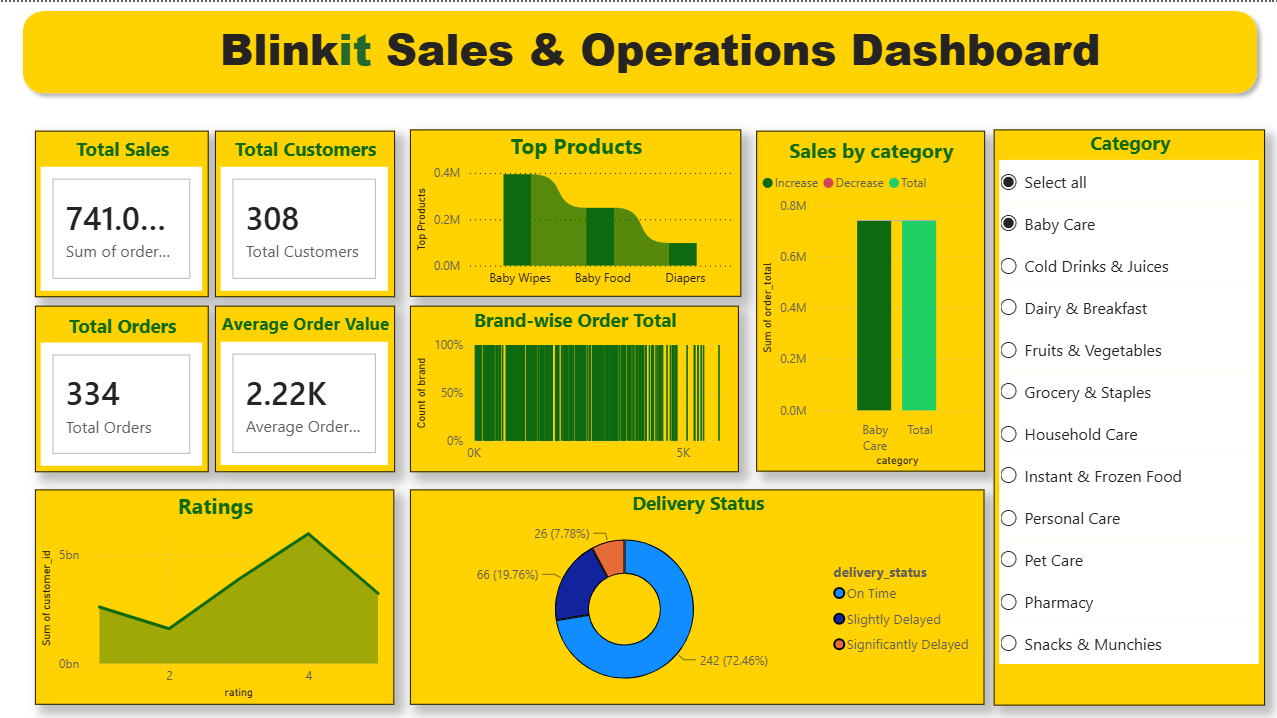

Layout of this report page (visuals, bound fields, positions):
{"tool":"powerbi","page":{"name":"Page 1","canvas":[1280,720],"ordinal":0},"visuals":[{"type":"waterfallChart","title":"Sales by category","fields":{"Category":["blinkit_products.category"],"Y":["Sum(blinkit_orders.order_total)"]},"box":[707.5,128.8,277.5,341.2],"z":0},{"type":"cardVisual","title":"Total Sales","fields":{"Data":["Sum(blinkit_orders.order_total)"]},"box":[35.5,128.4,173.6,166.3],"z":1000},{"type":"cardVisual","title":"Total Orders","fields":{"Data":["blinkit_customer_feedback.Total Orders"]},"box":[35.5,303.3,173.6,166.3],"z":2000},{"type":"cardVisual","title":"Total Customers","fields":{"Data":["blinkit_customer_feedback.Total Customers"]},"box":[215.2,128.4,179.8,166.3],"z":3000},{"type":"cardVisual","title":"Average Order Value","fields":{"Data":["blinkit_customer_feedback.Average Order Value"]},"box":[215.2,303.3,179.8,166.3],"z":4000},{"type":"ribbonChart","title":"Top Products","fields":{"Category":["blinkit_products.product_name"],"Y":["Sum(blinkit_orders.order_total)"]},"box":[35,487.5,491.2,216.2],"z":5000},{"type":"hundredPercentStackedColumnChart","title":"Brand-wise Order Total","fields":{"Category":["blinkit_orders.order_total"],"Y":["CountNonNull(blinkit_products.brand)"]},"box":[538.8,487.5,446.2,216.2],"z":6000},{"type":"stackedAreaChart","title":"Ratings","fields":{"Category":["blinkit_customer_feedback.rating"],"Y":["Sum(blinkit_customer_feedback.customer_id)"]},"box":[408.8,127.5,285,342.5],"z":8000},{"type":"listSlicer","title":"Category","fields":{"Values":["blinkit_products.category"]},"box":[994.2,127.2,271.5,576],"z":9000},{"type":"shape","box":[13.9,0,1252.2,100.3],"z":10000},{"type":"textbox","box":[215.2,11,1050.4,78.3],"z":11000}]}

Visuals, with their boxes in screenshot pixels (x1, y1, x2, y2), scaled from the page's 1280x720 canvas onto the 1277x718 screenshot:
"Sales by category" waterfallChart: region(706, 128, 983, 469)
"Total Sales" cardVisual: region(35, 128, 209, 294)
"Total Orders" cardVisual: region(35, 302, 209, 468)
"Total Customers" cardVisual: region(215, 128, 394, 294)
"Average Order Value" cardVisual: region(215, 302, 394, 468)
"Top Products" ribbonChart: region(35, 486, 525, 702)
"Brand-wise Order Total" hundredPercentStackedColumnChart: region(538, 486, 983, 702)
"Ratings" stackedAreaChart: region(408, 127, 692, 469)
"Category" listSlicer: region(992, 127, 1263, 701)
shape: region(14, 0, 1263, 100)
textbox: region(215, 11, 1263, 89)
